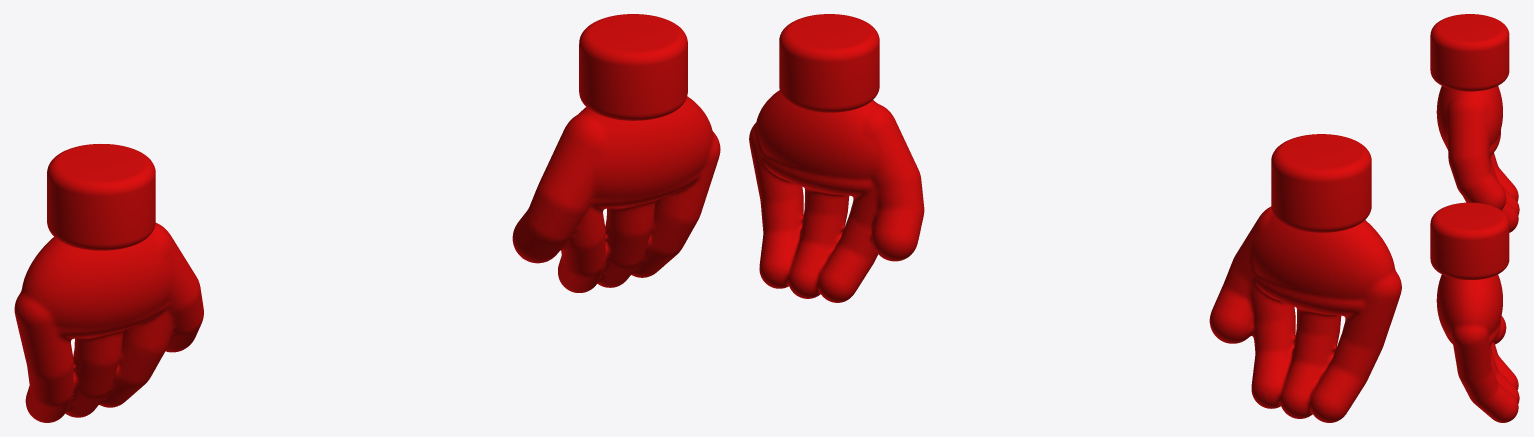
The model's file is hands.obj.
3 renders of one model, left to right at view 1: azimuth 30°, elevation 25°; view 2: azimuth 150°, elevation 25°; view 3: azimuth 270°, elevation 25°, orthographic. The views are drawn at different scales.
Parts seen in each view (by area): view 1: Hand_L, Hand_R; view 2: Hand_L, Hand_R; view 3: Hand_L, Hand_R.
Part boxes in pixels (x1,y1,x2,y2): Hand_L: (512,14,720,292); Hand_R: (14,144,203,422); Hand_L: (749,14,924,302); Hand_R: (1209,134,1401,422); Hand_L: (1430,202,1519,422); Hand_R: (1430,14,1519,232).
Size of the model in its own units: 0.9195 by 0.3391 by 0.1398.
